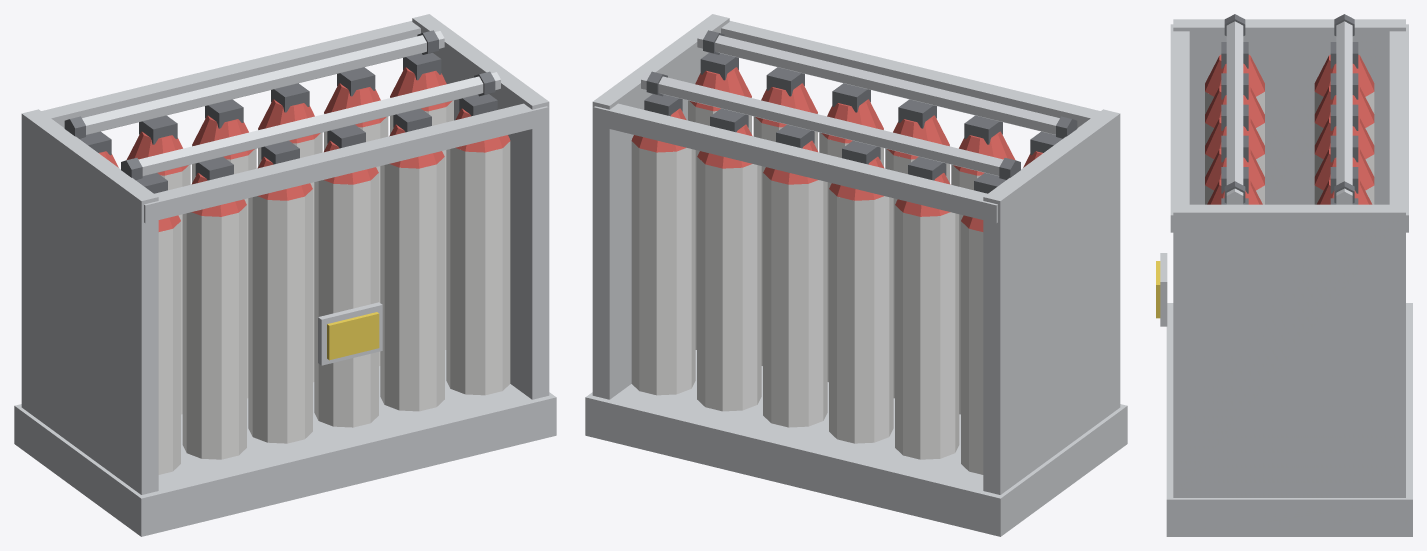
File: rocket-launch-pad-and-gantry-helium-bottle-rack-23a13a04__38197.glb
3 views of the same model, side by side, from view 1: azimuth 30°, elevation 25°; view 2: azimuth 150°, elevation 25°; view 3: azimuth 270°, elevation 25° (orthographic). The views are drawn at different scales.
Visible parts, largest first — view 1: helium-bottle-rack; view 2: helium-bottle-rack; view 3: helium-bottle-rack.
Boxes of the visible parts, x1,y1,x2,y2 form: helium-bottle-rack: (14,14,556,536); helium-bottle-rack: (585,14,1127,536); helium-bottle-rack: (1156,14,1412,536).
Size of the model in its own units: 3.4 by 2.71 by 1.88.
